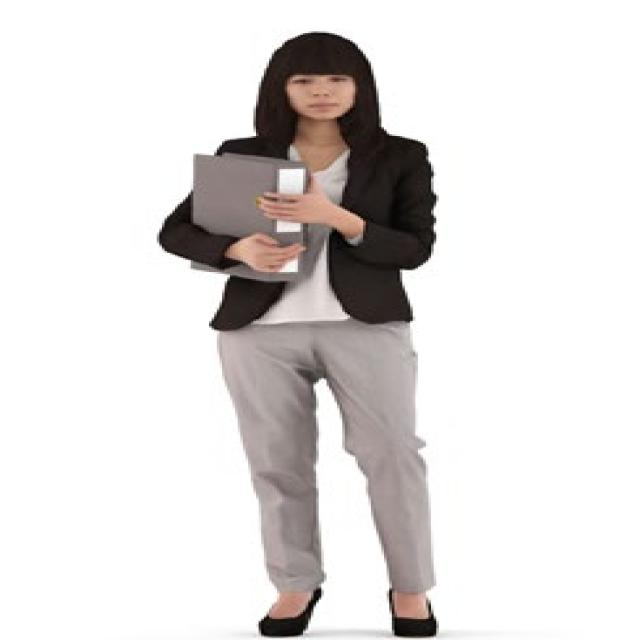standing: (154, 28, 438, 640)
